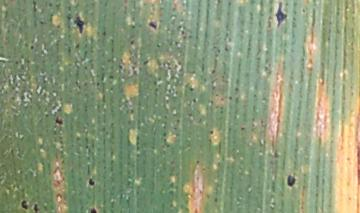tarspot: (273, 1, 288, 29), (73, 15, 85, 35), (285, 173, 297, 187), (147, 18, 158, 31), (53, 114, 63, 126), (31, 1, 39, 14), (20, 199, 28, 211), (88, 176, 95, 187), (28, 43, 36, 51), (142, 58, 150, 66), (33, 203, 39, 213), (129, 38, 136, 46), (239, 125, 246, 133), (74, 41, 81, 49), (89, 207, 98, 213), (226, 94, 233, 101), (212, 196, 219, 203), (100, 29, 107, 36), (233, 86, 241, 92), (38, 19, 45, 25), (47, 1, 54, 7), (188, 85, 194, 92), (95, 81, 101, 88), (180, 28, 185, 35), (215, 1, 223, 5), (209, 129, 214, 135), (84, 144, 89, 150), (130, 24, 136, 29)
